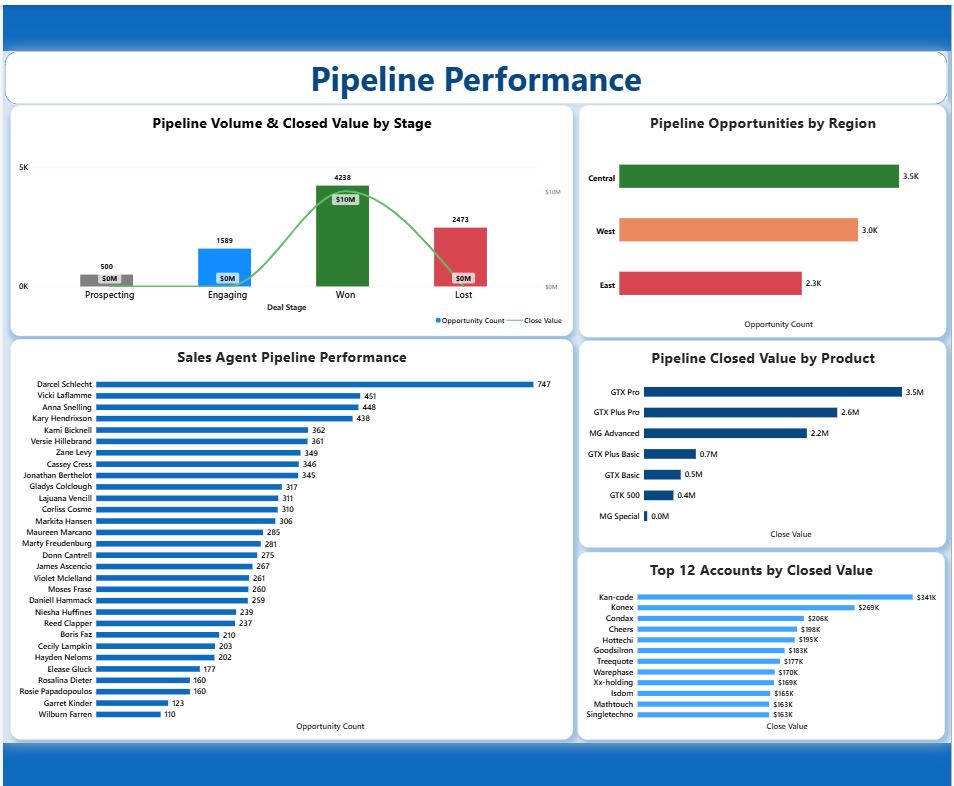

This screenshot's page, from the dashboard's own definition file:
{"tool":"powerbi","page":{"name":"Pipeline Performance","canvas":[1920,1400],"ordinal":2},"visuals":[{"type":"shape","box":[3,0,1910.9,109.4],"z":0},{"type":"lineClusteredColumnComboChart","title":"Pipeline Volume & Closed Value by Stage","fields":{"Category":["Maven_Stage_Performance.deal_stage"],"Y":["Sum(Maven_Stage_Performance.OpportunityCount)"],"Y2":["Sum(Maven_Stage_Performance.CloseValue)"]},"box":[15.2,109.4,1139.2,467.8],"z":1000},{"type":"clusteredBarChart","title":"Pipeline Opportunities by Region","fields":{"Category":["Maven_Regional_Performance.regional_office"],"Y":["Sum(Maven_Regional_Performance.OpportunityCount)"]},"box":[1166.6,109.4,744.3,470.9],"z":2000},{"type":"clusteredBarChart","title":"Sales Agent Pipeline Performance","fields":{"Category":["Maven_Sales_Agent_Performance.sales_agent"],"Y":["Sum(Maven_Sales_Agent_Performance.OpportunityCount)"]},"box":[15.2,583.3,1139.2,811.1],"z":3000},{"type":"clusteredBarChart","title":"Pipeline Closed Value by Product","fields":{"Category":["Maven_Product_Performance.product_standardized"],"Y":["Sum(Maven_Product_Performance.CloseValue)"]},"box":[1166.6,586.3,744.3,419.2],"z":4000},{"type":"clusteredBarChart","title":"Top 12 Accounts by Closed Value","fields":{"Category":["Maven_Account_Performance.account"],"Y":["Sum(Maven_Account_Performance.CloseValue)"]},"box":[1163.5,1014.7,744.3,379.7],"z":5000}]}

Visuals, with their boxes on the page's 1920x1400 design canvas (x1, y1, x2, y2). These are canvas units, not pixel positions in the 954x786 screenshot, which may show the page scaled, cropped or inside an application window:
shape: x1=3 y1=0 x2=1914 y2=109
"Pipeline Volume & Closed Value by Stage" lineClusteredColumnComboChart: x1=15 y1=109 x2=1154 y2=577
"Pipeline Opportunities by Region" clusteredBarChart: x1=1167 y1=109 x2=1911 y2=580
"Sales Agent Pipeline Performance" clusteredBarChart: x1=15 y1=583 x2=1154 y2=1394
"Pipeline Closed Value by Product" clusteredBarChart: x1=1167 y1=586 x2=1911 y2=1006
"Top 12 Accounts by Closed Value" clusteredBarChart: x1=1164 y1=1015 x2=1908 y2=1394
